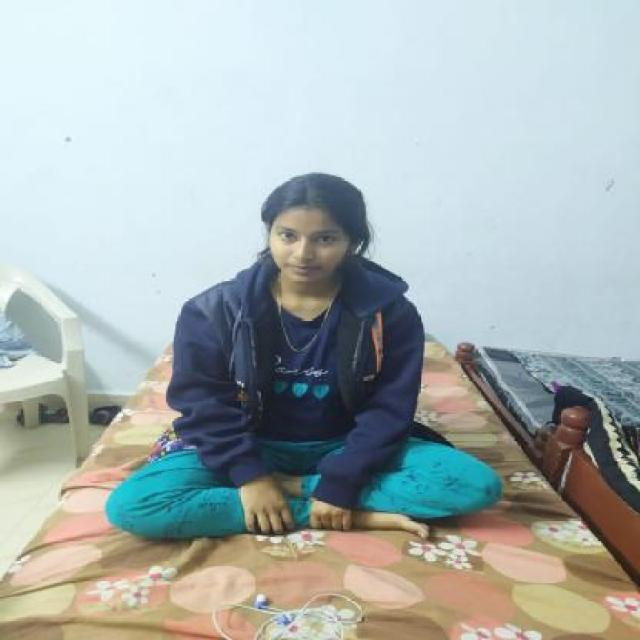good: (146, 160, 446, 460)
